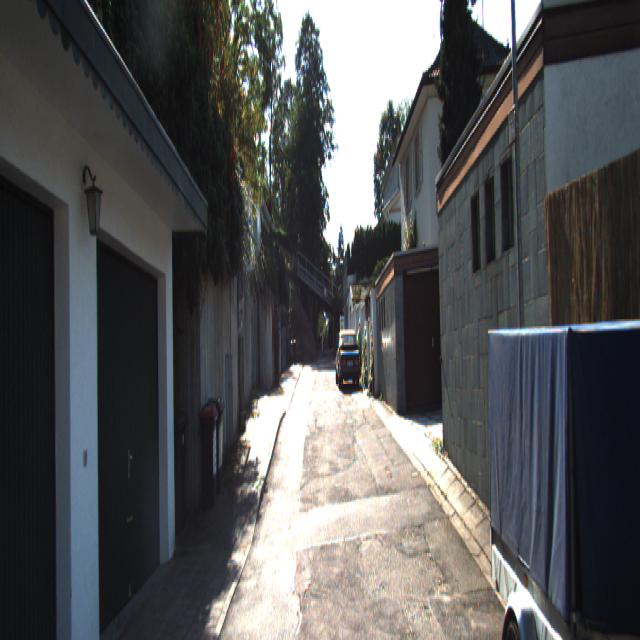Car: (479, 280, 640, 638), (336, 322, 362, 388)
